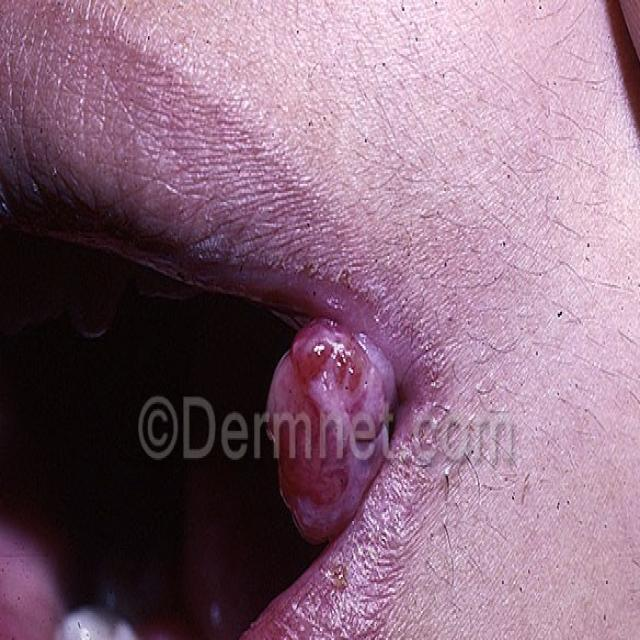Vascular Tumors: (245, 271, 417, 557)
